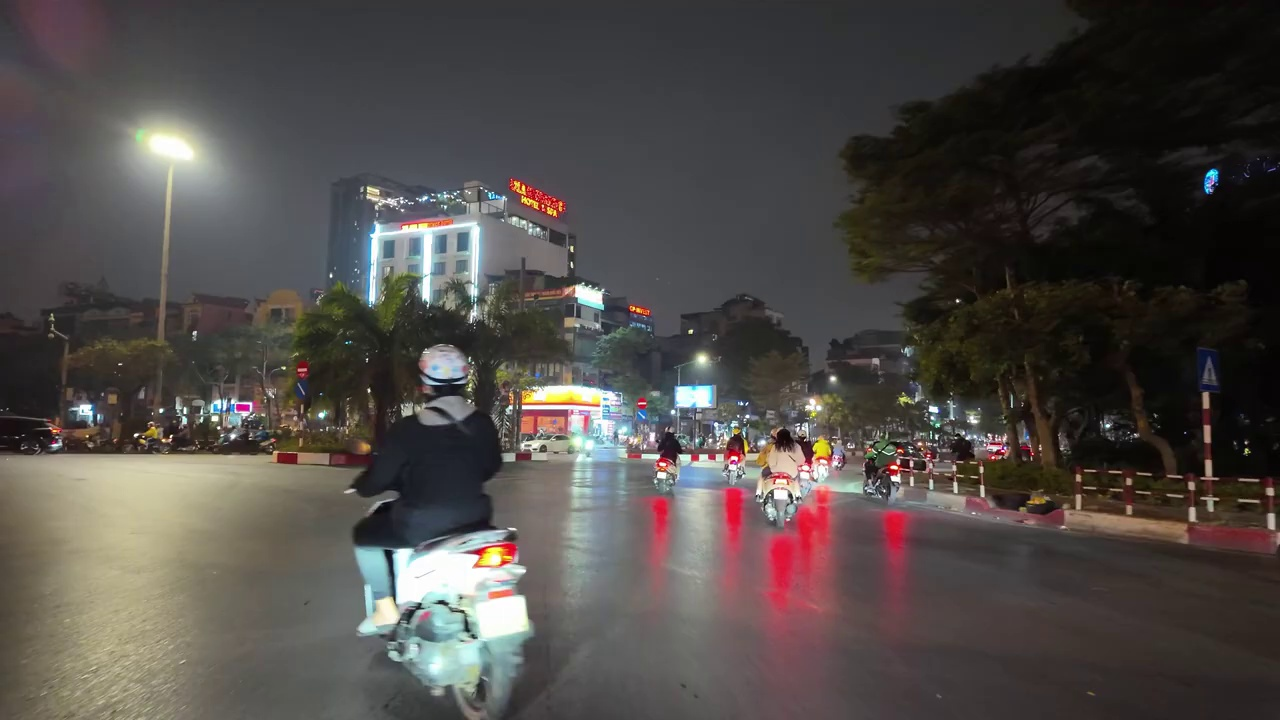acesa: (147, 132, 196, 166), (690, 349, 716, 374)
